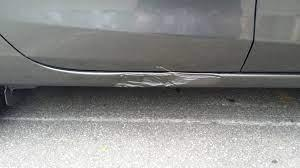RunningBoard-Dent: (37, 67, 226, 89)
